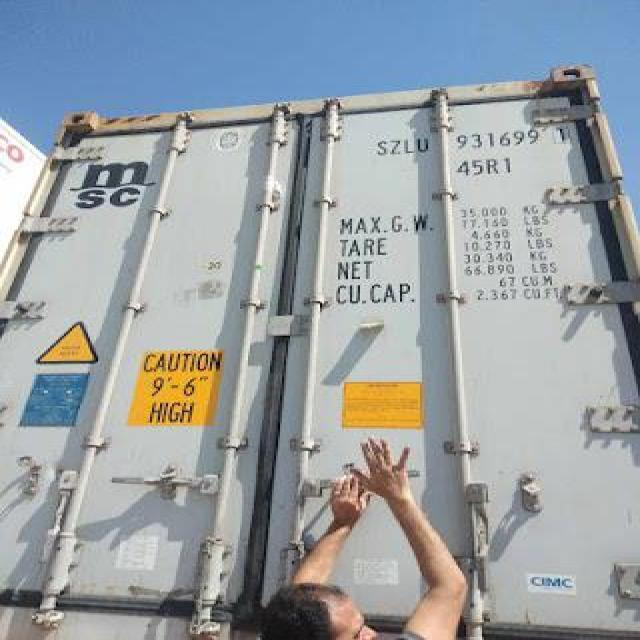ISO: (456, 154, 514, 178)
container_number: (378, 120, 570, 152)
